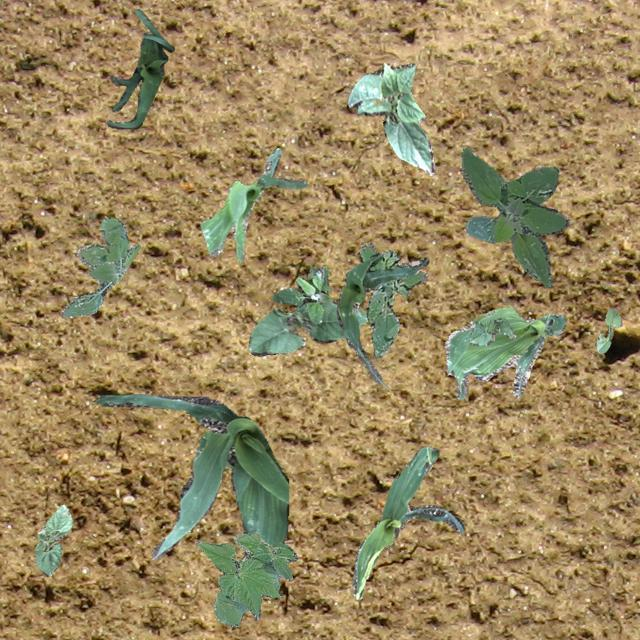crop: (91, 392, 288, 558), (352, 446, 462, 598), (200, 146, 306, 262), (337, 252, 428, 384), (444, 306, 564, 398), (195, 530, 296, 626), (348, 62, 434, 174), (105, 8, 173, 128), (248, 298, 368, 356), (34, 504, 72, 576), (468, 316, 514, 344), (594, 306, 620, 352)
weed: (461, 146, 568, 286), (60, 216, 140, 316), (358, 242, 426, 356), (272, 266, 331, 324)
